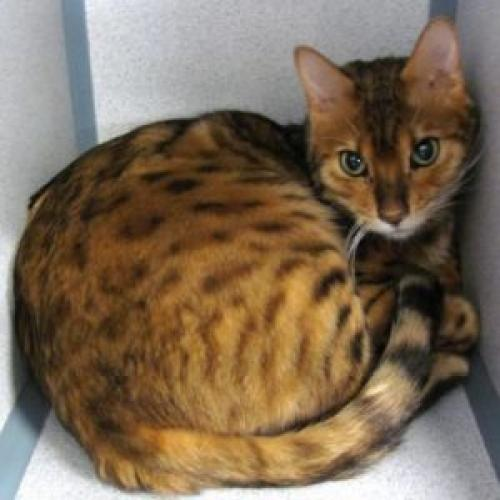bengal: (279, 10, 499, 253)
